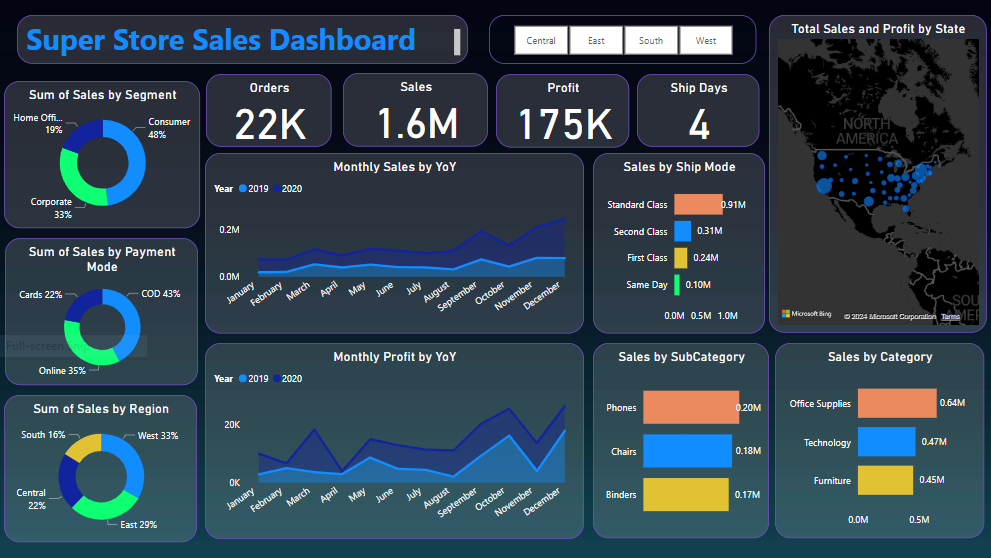

This screenshot's page, from the dashboard's own definition file:
{"tool":"powerbi","page":{"name":"Page 1","canvas":[1280,720],"ordinal":0},"visuals":[{"type":"clusteredBarChart","title":"Sales by Category","fields":{"Y":["Sum(SuperStore_Sales_Dataset.Sales)"],"Category":["SuperStore_Sales_Dataset.Category"]},"box":[1000.6,443.2,269.8,251.9],"z":0},{"type":"clusteredBarChart","title":"Sales by SubCategory","fields":{"Y":["Sum(SuperStore_Sales_Dataset.Sales)"],"Category":["SuperStore_Sales_Dataset.Sub-Category"]},"box":[765.2,443.2,227.1,251.9],"z":1000},{"type":"clusteredBarChart","title":"Sales by Ship Mode","fields":{"Y":["Sum(SuperStore_Sales_Dataset.Sales)"],"Category":["SuperStore_Sales_Dataset.Ship Mode"]},"box":[765.2,196.8,221.6,232.6],"z":2000},{"type":"stackedAreaChart","title":"Monthly Sales by YoY","fields":{"Category":["SuperStore_Sales_Dataset.Order Date.Variation.Date Hierarchy.Month","SuperStore_Sales_Dataset.Order Date.Variation.Date Hierarchy.Day"],"Y":["Sum(SuperStore_Sales_Dataset.Sales)"],"Series":["SuperStore_Sales_Dataset.Order Date.Variation.Date Hierarchy.Year"]},"box":[264.3,196.8,488.6,232.6],"z":3000},{"type":"stackedAreaChart","title":"Monthly Profit by YoY","fields":{"Category":["SuperStore_Sales_Dataset.Order Date.Variation.Date Hierarchy.Month","SuperStore_Sales_Dataset.Order Date.Variation.Date Hierarchy.Day"],"Series":["SuperStore_Sales_Dataset.Order Date.Variation.Date Hierarchy.Year"],"Y":["Sum(SuperStore_Sales_Dataset.Profit)"]},"box":[264.3,443.2,488.6,253.2],"z":4000},{"type":"map","title":" Total Sales and Profit by State","fields":{"Category":["SuperStore_Sales_Dataset.State"],"Size":["Sum(SuperStore_Sales_Dataset.Sales)"]},"box":[992.3,19.3,280.8,410.2],"z":5000},{"type":"donutChart","fields":{"Y":["Sum(SuperStore_Sales_Dataset.Sales)"],"Category":["SuperStore_Sales_Dataset.Segment"]},"box":[5.5,105,253,190],"z":6000},{"type":"donutChart","fields":{"Y":["Sum(SuperStore_Sales_Dataset.Sales)"],"Category":["SuperStore_Sales_Dataset.Payment Mode"]},"box":[6.9,307.3,249.1,190],"z":7000},{"type":"slicer","fields":{"Values":["SuperStore_Sales_Dataset.Region"]},"box":[630.4,19.3,345.5,63.3],"z":8000},{"type":"card","title":"Sales","fields":{"Values":["Sum(SuperStore_Sales_Dataset.Sales)"]},"box":[443.2,93.6,187.2,95],"z":9000},{"type":"card","title":"Profit","fields":{"Values":["Sum(SuperStore_Sales_Dataset.Profit)"]},"box":[640,95,172,95],"z":10000},{"type":"card","title":"Orders","fields":{"Values":["Sum(SuperStore_Sales_Dataset.Quantity)"]},"box":[265.6,95,162.4,93.6],"z":11000},{"type":"card","title":"Ship Days","fields":{"Values":["Avg(SuperStore_Sales_Dataset.AvgDelivery)"]},"box":[821.7,95,158.3,93.6],"z":12000},{"type":"donutChart","title":"Sum of Sales by Region","fields":{"Y":["Sum(SuperStore_Sales_Dataset.Sales)"],"Category":["SuperStore_Sales_Dataset.Region"]},"box":[5.5,509.6,249.1,190],"z":13000},{"type":"textbox","box":[22,19.3,582.2,63.3],"z":14000}]}

Visuals, with their boxes in screenshot pixels (x1, y1, x2, y2), scaled from the page's 1280x720 canvas onto the 991x558 screenshot:
"Sales by Category" clusteredBarChart: (775,343,984,539)
"Sales by SubCategory" clusteredBarChart: (592,343,768,539)
"Sales by Ship Mode" clusteredBarChart: (592,153,764,333)
"Monthly Sales by YoY" stackedAreaChart: (205,153,583,333)
"Monthly Profit by YoY" stackedAreaChart: (205,343,583,540)
" Total Sales and Profit by State" map: (768,15,986,333)
donutChart - Sum(SuperStore_Sales_Dataset.Sales) x SuperStore_Sales_Dataset.Segment: (4,81,200,229)
donutChart - Sum(SuperStore_Sales_Dataset.Sales) x SuperStore_Sales_Dataset.Payment Mode: (5,238,198,385)
slicer - SuperStore_Sales_Dataset.Region: (488,15,756,64)
"Sales" card: (343,73,488,146)
"Profit" card: (496,74,629,147)
"Orders" card: (206,74,331,146)
"Ship Days" card: (636,74,759,146)
"Sum of Sales by Region" donutChart: (4,395,197,542)
textbox: (17,15,468,64)
